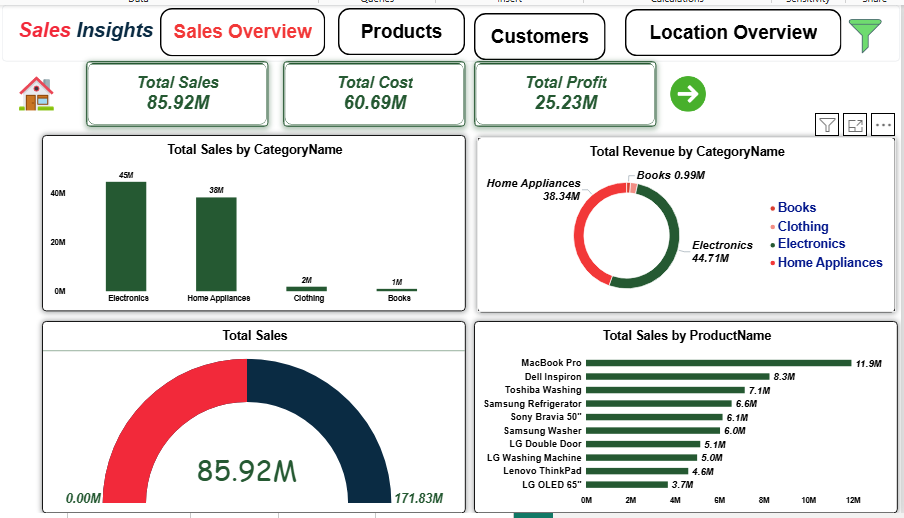

Layout of this report page (visuals, bound fields, positions):
{"tool":"powerbi","page":{"name":"Sales Overview","canvas":[1920,1080],"ordinal":1},"visuals":[{"type":"shape","box":[10.9,0,1909.1,120],"z":0},{"type":"textbox","box":[32.2,30,313.2,90.1],"z":1000},{"type":"actionButton","box":[346.7,7.2,351.5,102.8],"z":2000},{"type":"actionButton","box":[724.5,7.2,270.2,100.4],"z":3000},{"type":"actionButton","box":[1013.8,16.7,279.8,100.4],"z":4000},{"type":"image","box":[31.9,136.1,104.2,104.2],"z":5000},{"type":"donutChart","fields":{"Category":["Dim_Category.CategoryName"],"Y":["Fact_Sales.Total Revenue"]},"box":[1021,279.8,890.2,373.1],"z":6000},{"type":"columnChart","fields":{"Category":["Dim_Category.CategoryName"],"Y":["Fact_Sales.Total Sales"]},"box":[95.7,276.4,901.1,375.3],"z":7000},{"type":"barChart","fields":{"Category":["Dim_Product.ProductName"],"Y":["Fact_Sales.Total Sales"]},"box":[1013.8,671.9,901.4,408.9],"z":8000},{"type":"image","box":[1795,15.6,102.7,102.7],"z":9000},{"type":"cardVisual","fields":{"Data":["Fact_Sales.Total Profit"]},"box":[1014.1,119.1,388.4,139.6],"z":10000},{"type":"cardVisual","fields":{"Data":["Fact_Sales.Total Cost"]},"box":[608,119.1,388.4,139.6],"z":19000},{"type":"cardVisual","fields":{"Data":["Fact_Sales.Total Sales"]},"box":[189.2,119.1,388.4,139.6],"z":20000},{"type":"image","box":[1403.1,136.1,131.8,106.3],"z":21000},{"type":"gauge","fields":{"Y":["Fact_Sales.Total Sales"]},"box":[95.6,671.9,901.4,408.9],"z":22000},{"type":"actionButton","box":[1334.2,9.6,460.4,100.4],"z":23000}]}

Visuals, with their boxes on the page's 1920x1080 design canvas (x1, y1, x2, y2). These are canvas units, not pixel positions in the 904x518 screenshot, which may show the page scaled, cropped or inside an application window:
shape: (x1=11, y1=0, x2=1920, y2=120)
textbox: (x1=32, y1=30, x2=345, y2=120)
actionButton: (x1=347, y1=7, x2=698, y2=110)
actionButton: (x1=724, y1=7, x2=995, y2=108)
actionButton: (x1=1014, y1=17, x2=1294, y2=117)
image: (x1=32, y1=136, x2=136, y2=240)
donutChart - Dim_Category.CategoryName x Fact_Sales.Total Revenue: (x1=1021, y1=280, x2=1911, y2=653)
columnChart - Dim_Category.CategoryName x Fact_Sales.Total Sales: (x1=96, y1=276, x2=997, y2=652)
barChart - Dim_Product.ProductName x Fact_Sales.Total Sales: (x1=1014, y1=672, x2=1915, y2=1081)
image: (x1=1795, y1=16, x2=1898, y2=118)
cardVisual - Fact_Sales.Total Profit: (x1=1014, y1=119, x2=1402, y2=259)
cardVisual - Fact_Sales.Total Cost: (x1=608, y1=119, x2=996, y2=259)
cardVisual - Fact_Sales.Total Sales: (x1=189, y1=119, x2=578, y2=259)
image: (x1=1403, y1=136, x2=1535, y2=242)
gauge - Fact_Sales.Total Sales: (x1=96, y1=672, x2=997, y2=1081)
actionButton: (x1=1334, y1=10, x2=1795, y2=110)
